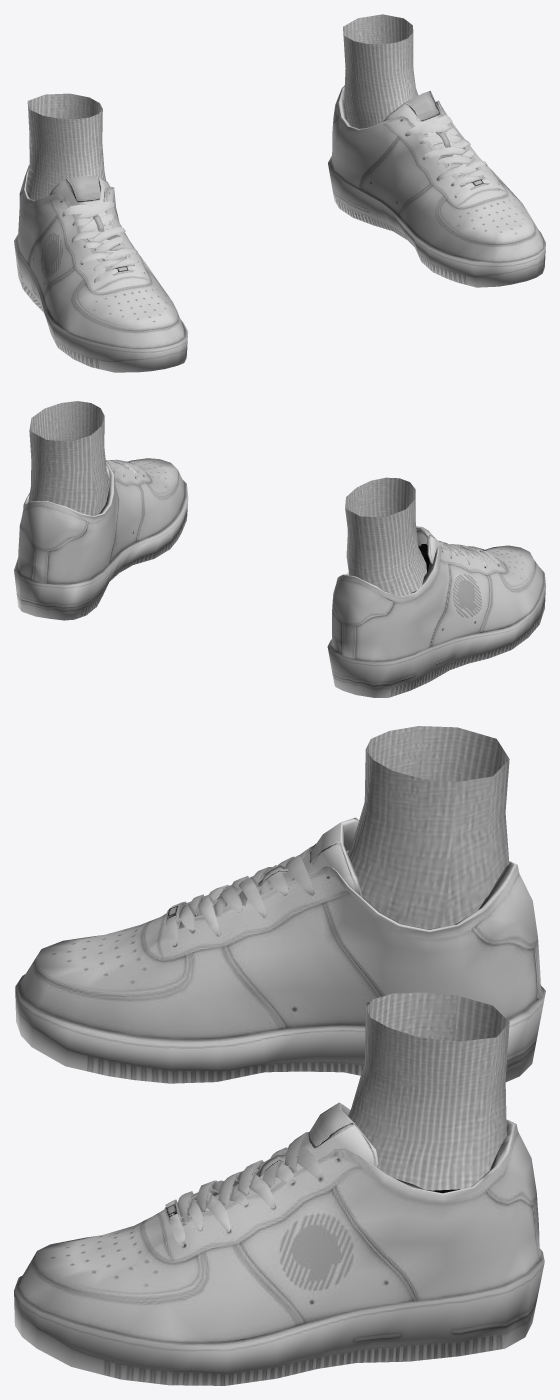
The model's file is v3_phr_male_UA_shoes_sneakers_airForce_white.glb.
3 views of the same model, one above another, from view 1: azimuth 30°, elevation 25°; view 2: azimuth 150°, elevation 25°; view 3: azimuth 270°, elevation 25° (orthographic). The views are drawn at different scales.
Visible parts, largest first — view 1: UnionAvatars_Shoes; view 2: UnionAvatars_Shoes; view 3: UnionAvatars_Shoes.
Part boxes in pixels (left/top/right/bottom): UnionAvatars_Shoes: left=14, top=14, right=545, bottom=372; UnionAvatars_Shoes: left=14, top=401, right=545, bottom=697; UnionAvatars_Shoes: left=14, top=726, right=545, bottom=1385.
Size of the model in its own units: 0.465 by 0.1756 by 0.2679.
Materials: 1 (1 with a texture image).
